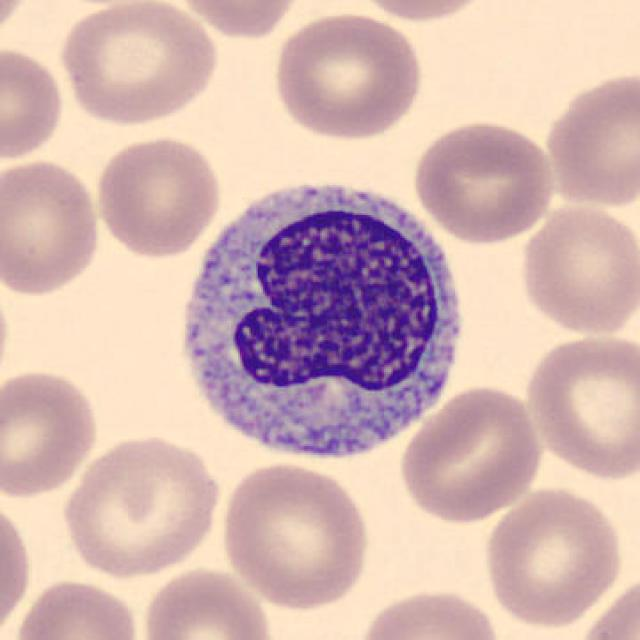Monocyte: (166, 164, 477, 476)
RBC: (57, 430, 224, 580), (217, 458, 373, 612), (480, 483, 628, 630), (54, 0, 222, 129), (396, 381, 546, 525), (268, 9, 426, 143), (411, 115, 558, 246), (521, 330, 638, 483), (90, 132, 226, 259), (516, 199, 638, 339), (0, 155, 105, 300), (538, 65, 640, 211), (0, 365, 103, 501), (137, 564, 277, 640), (353, 583, 506, 640), (11, 575, 144, 640), (0, 42, 68, 164), (167, 0, 309, 41), (0, 490, 36, 640), (572, 569, 640, 640), (346, 0, 499, 25), (0, 272, 14, 396), (0, 0, 34, 48)
